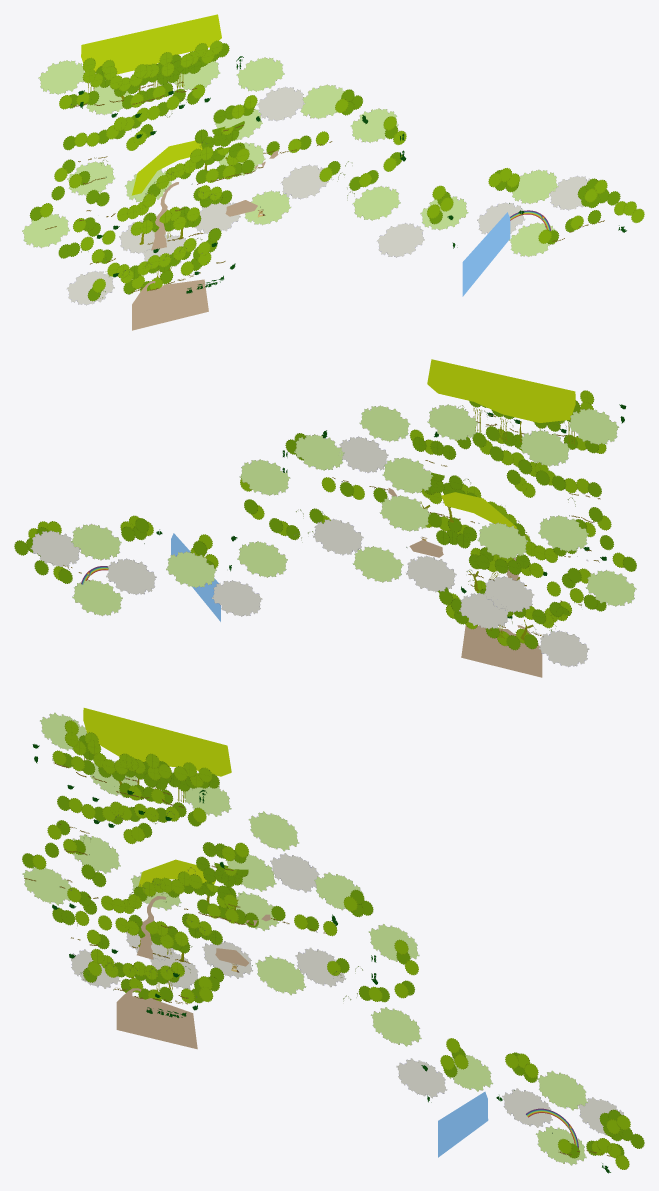
File: jungle02_bg.glb
The picture shows the model from 3 angles, top to bottom: view 1: azimuth 30°, elevation 25°; view 2: azimuth 150°, elevation 25°; view 3: azimuth 330°, elevation 25°; orthographic projection. The views are drawn at different scales.
Parts seen in each view (by area): view 1: jungle02_bg; view 2: jungle02_bg; view 3: jungle02_bg.
Part boxes in pixels (left/top/right/bottom): jungle02_bg: left=22, top=14, right=644, bottom=330; jungle02_bg: left=14, top=359, right=636, bottom=677; jungle02_bg: left=22, top=708, right=644, bottom=1173.
Bounding box in the file's own units: 4483 × 2279 × 298.
Materials: 18 (15 with a texture image).
